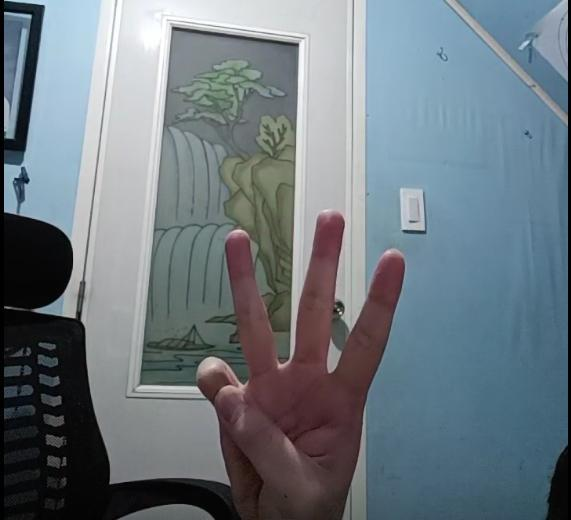w: (196, 211, 406, 520)
